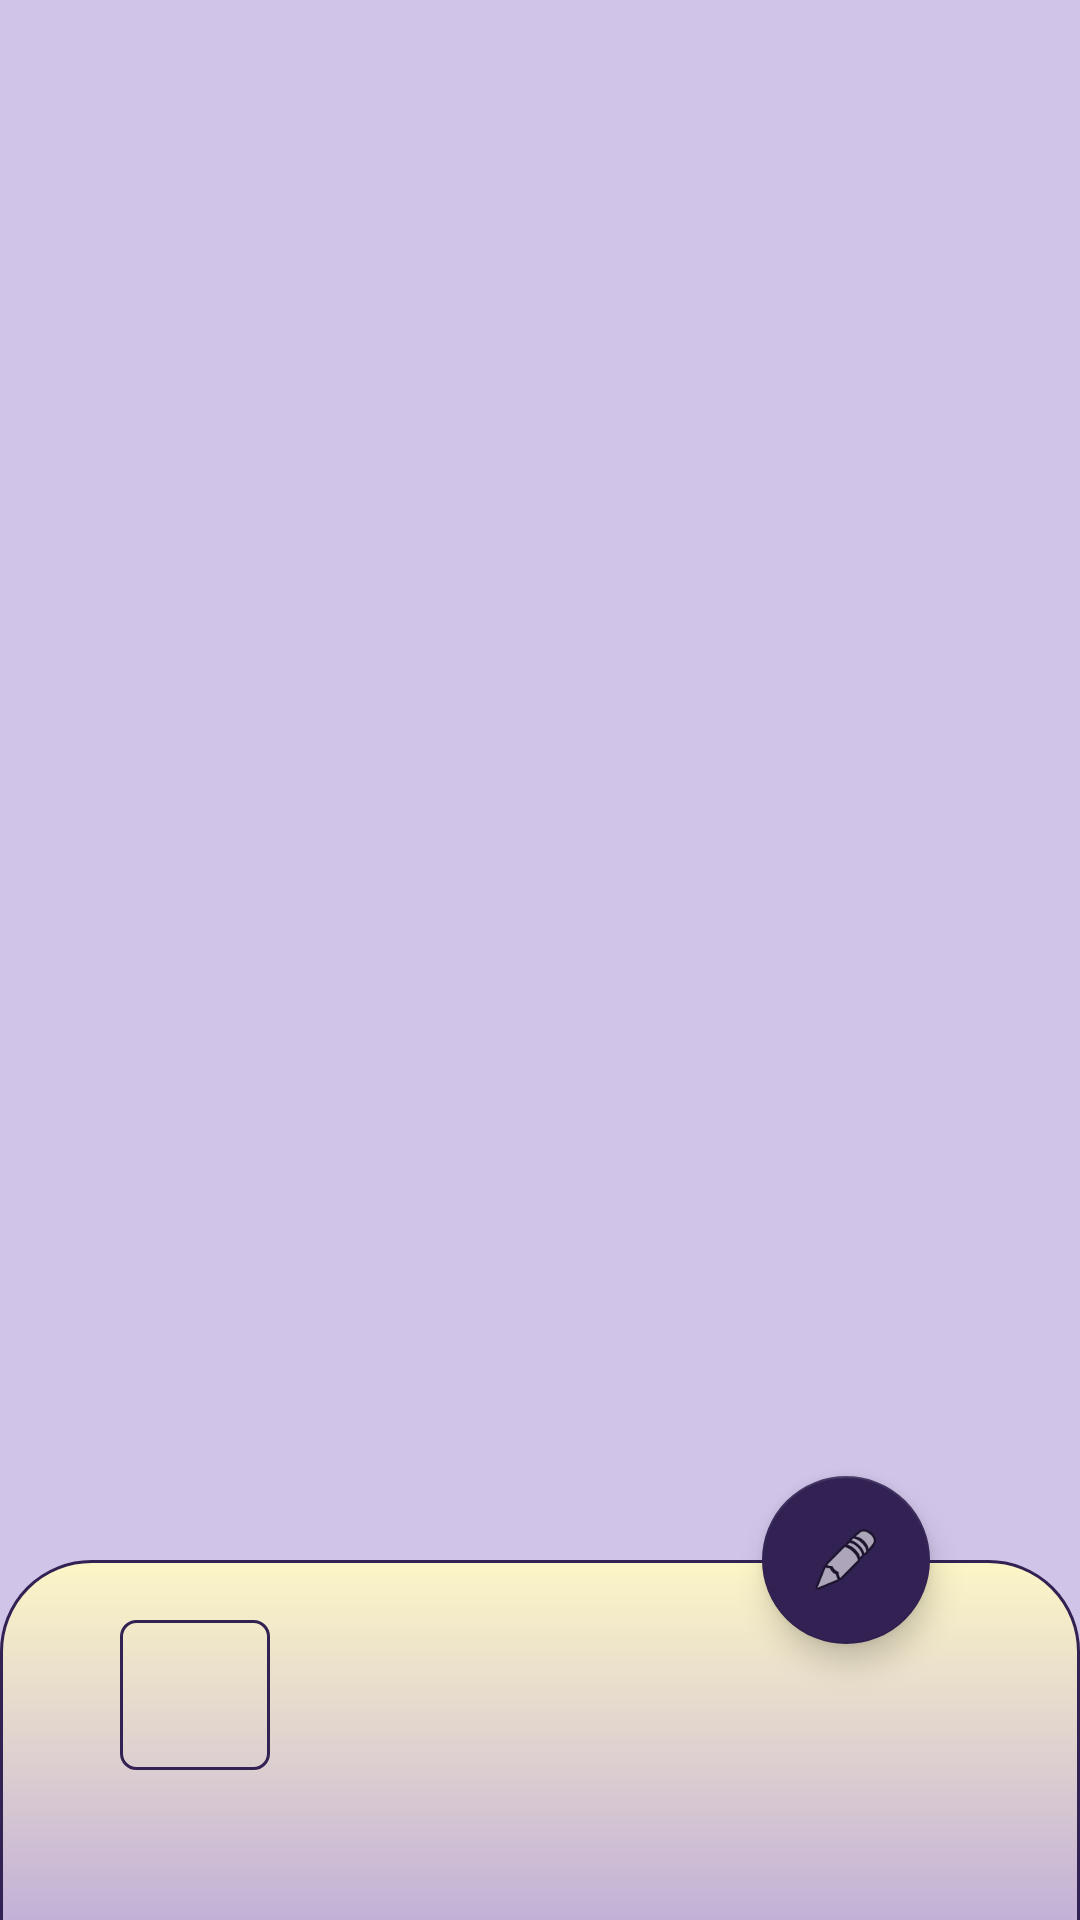

Named icons in this screenshot (1080x1920) and their centers, (x,y):
edit: (846,1560)
